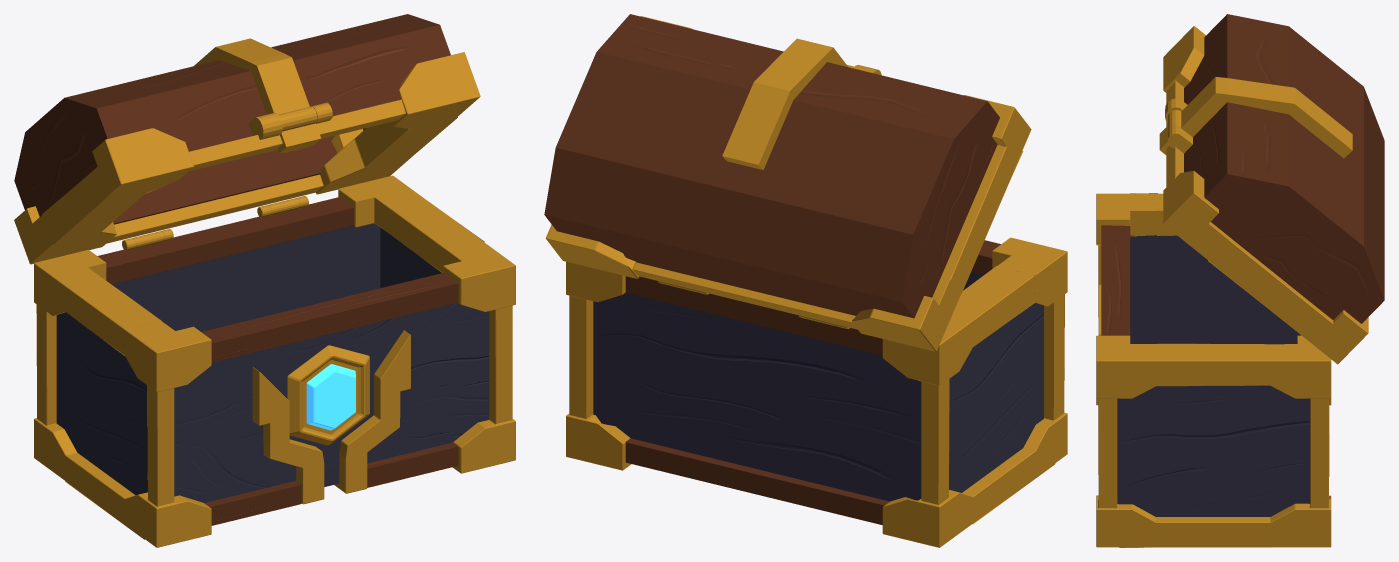
File: CofreArregladofbx.fbx
3 renders of one model, left to right at view 1: azimuth 30°, elevation 25°; view 2: azimuth 150°, elevation 25°; view 3: azimuth 270°, elevation 25°, orthographic. The views are drawn at different scales.
Parts seen in each view (by area): view 1: Cofre, ContornoDorado, Tapadera, ContornoDTapadera, MarcoSuperior, DecoracionCofre, FormaLlave, MarcoInferior, ContornoGema, Gema, LLave, Bisagra; view 2: Tapadera, Cofre, ContornoDorado, ContornoDTapadera, MarcoInferior, FormaLlave, MarcoSuperior; view 3: Tapadera, Cofre, ContornoDorado, ContornoDTapadera, FormaLlave, MarcoSuperior, LLave.
Part boxes in pixels (box(x1,y1,x2,y2)): Cofre: box(56, 223, 489, 502); ContornoDorado: box(34, 175, 515, 547); Tapadera: box(14, 14, 450, 224); ContornoDTapadera: box(14, 52, 480, 264); MarcoSuperior: box(97, 197, 458, 362); DecoracionCofre: box(252, 330, 410, 504); FormaLlave: box(194, 38, 321, 153); MarcoInferior: box(204, 442, 458, 525); ContornoGema: box(287, 345, 369, 445); Gema: box(306, 364, 355, 430); LLave: box(248, 102, 332, 139); Bisagra: box(122, 196, 308, 250); Tapadera: box(544, 14, 999, 318); Cofre: box(593, 271, 1043, 501); ContornoDorado: box(566, 237, 1067, 547); ContornoDTapadera: box(545, 16, 1031, 351); MarcoInferior: box(625, 438, 889, 524); FormaLlave: box(722, 38, 848, 169); MarcoSuperior: box(625, 240, 1034, 355); Tapadera: box(1184, 14, 1384, 323); Cofre: box(1117, 235, 1310, 516); ContornoDorado: box(1096, 193, 1331, 547); ContornoDTapadera: box(1163, 26, 1368, 364); FormaLlave: box(1159, 76, 1352, 158); MarcoSuperior: box(1101, 203, 1301, 335); LLave: box(1165, 98, 1192, 153).
Bounding box in the file's own units: 453 × 476 × 328.
